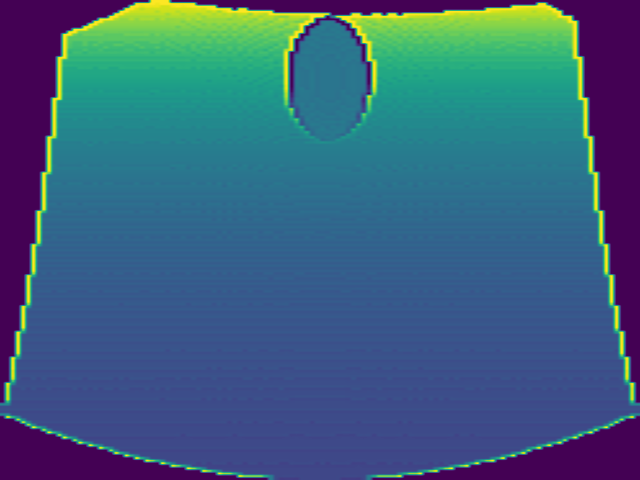sphere: (282, 15, 378, 144)
